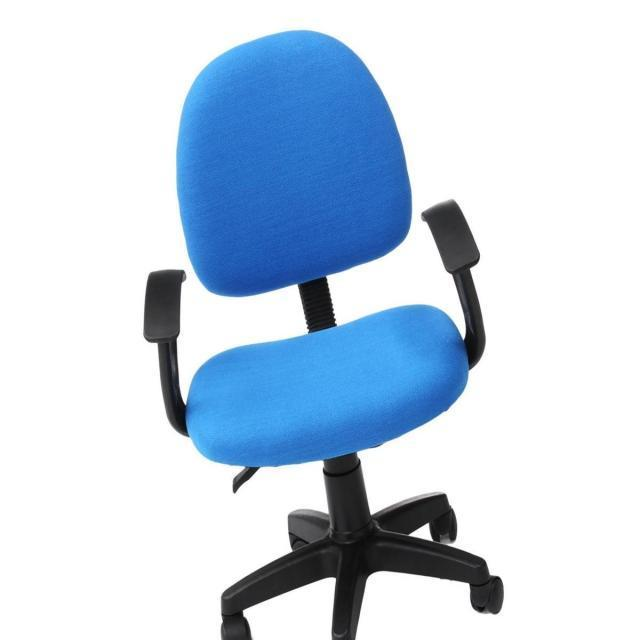chair: (144, 31, 506, 640)
